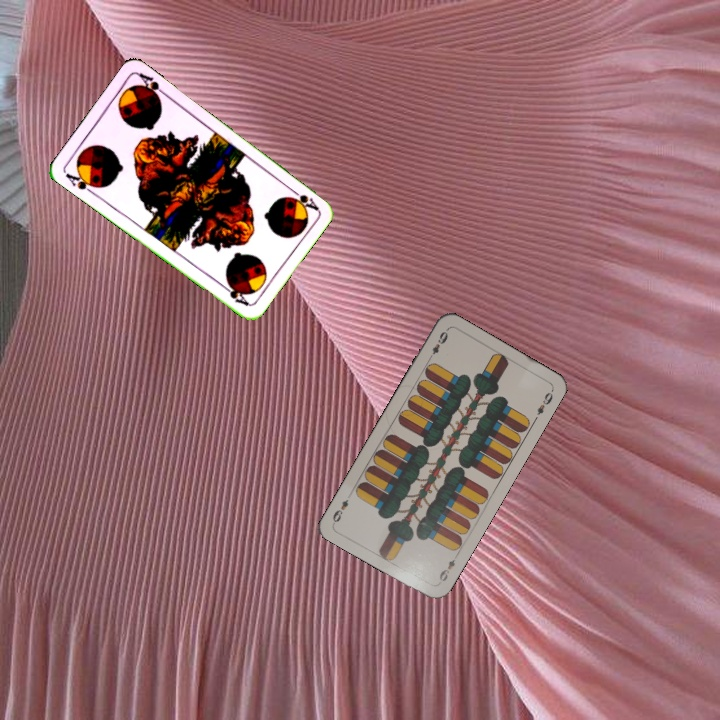E9: (425, 327, 451, 363), (434, 555, 458, 587)
SA: (61, 167, 101, 198), (285, 183, 320, 213)
